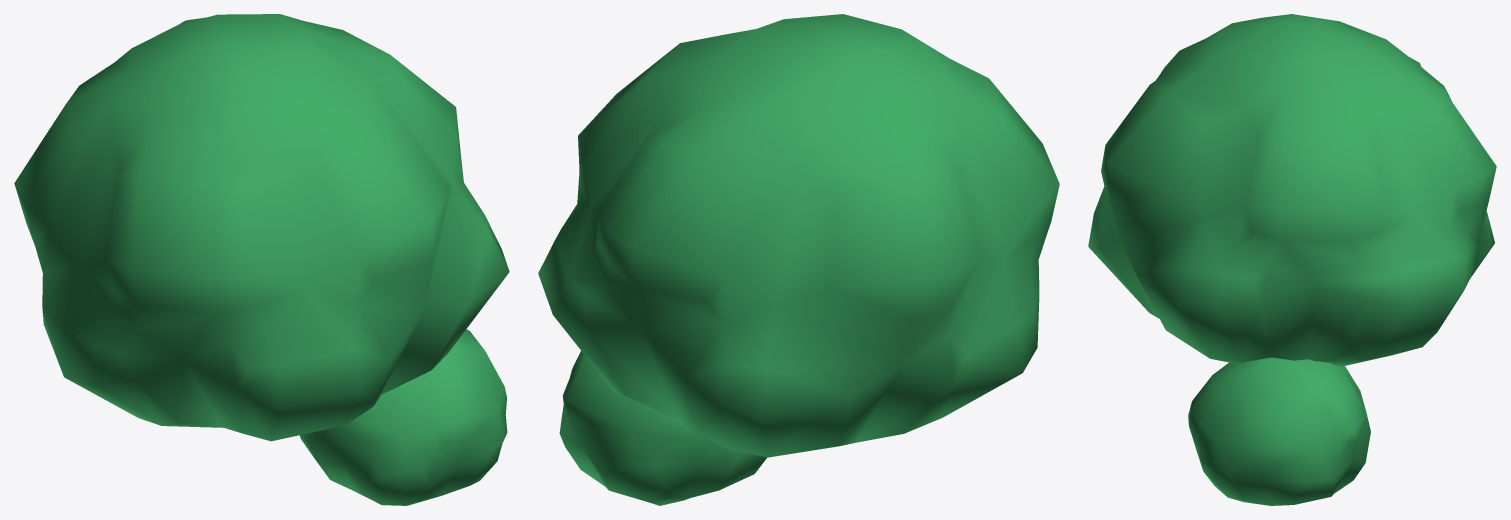
Rendered from Tree_Top_D_02_LOD2.gltf.
3 views of the same model, side by side, from view 1: azimuth 30°, elevation 25°; view 2: azimuth 150°, elevation 25°; view 3: azimuth 270°, elevation 25° (orthographic). The views are drawn at different scales.
Visible parts, largest first — view 1: Tree_Top_D_02_LOD2_Cylinder.665; view 2: Tree_Top_D_02_LOD2_Cylinder.665; view 3: Tree_Top_D_02_LOD2_Cylinder.665.
Part boxes in pixels (left/top/right/bottom): Tree_Top_D_02_LOD2_Cylinder.665: left=14, top=14, right=509, bottom=505; Tree_Top_D_02_LOD2_Cylinder.665: left=538, top=14, right=1059, bottom=505; Tree_Top_D_02_LOD2_Cylinder.665: left=1088, top=14, right=1496, bottom=505.
Bounding box in the file's own units: 6.88 × 7.31 × 6.76.
Materials: 1 (1 with a texture image).
